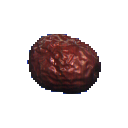gd: (15, 26, 119, 119)
